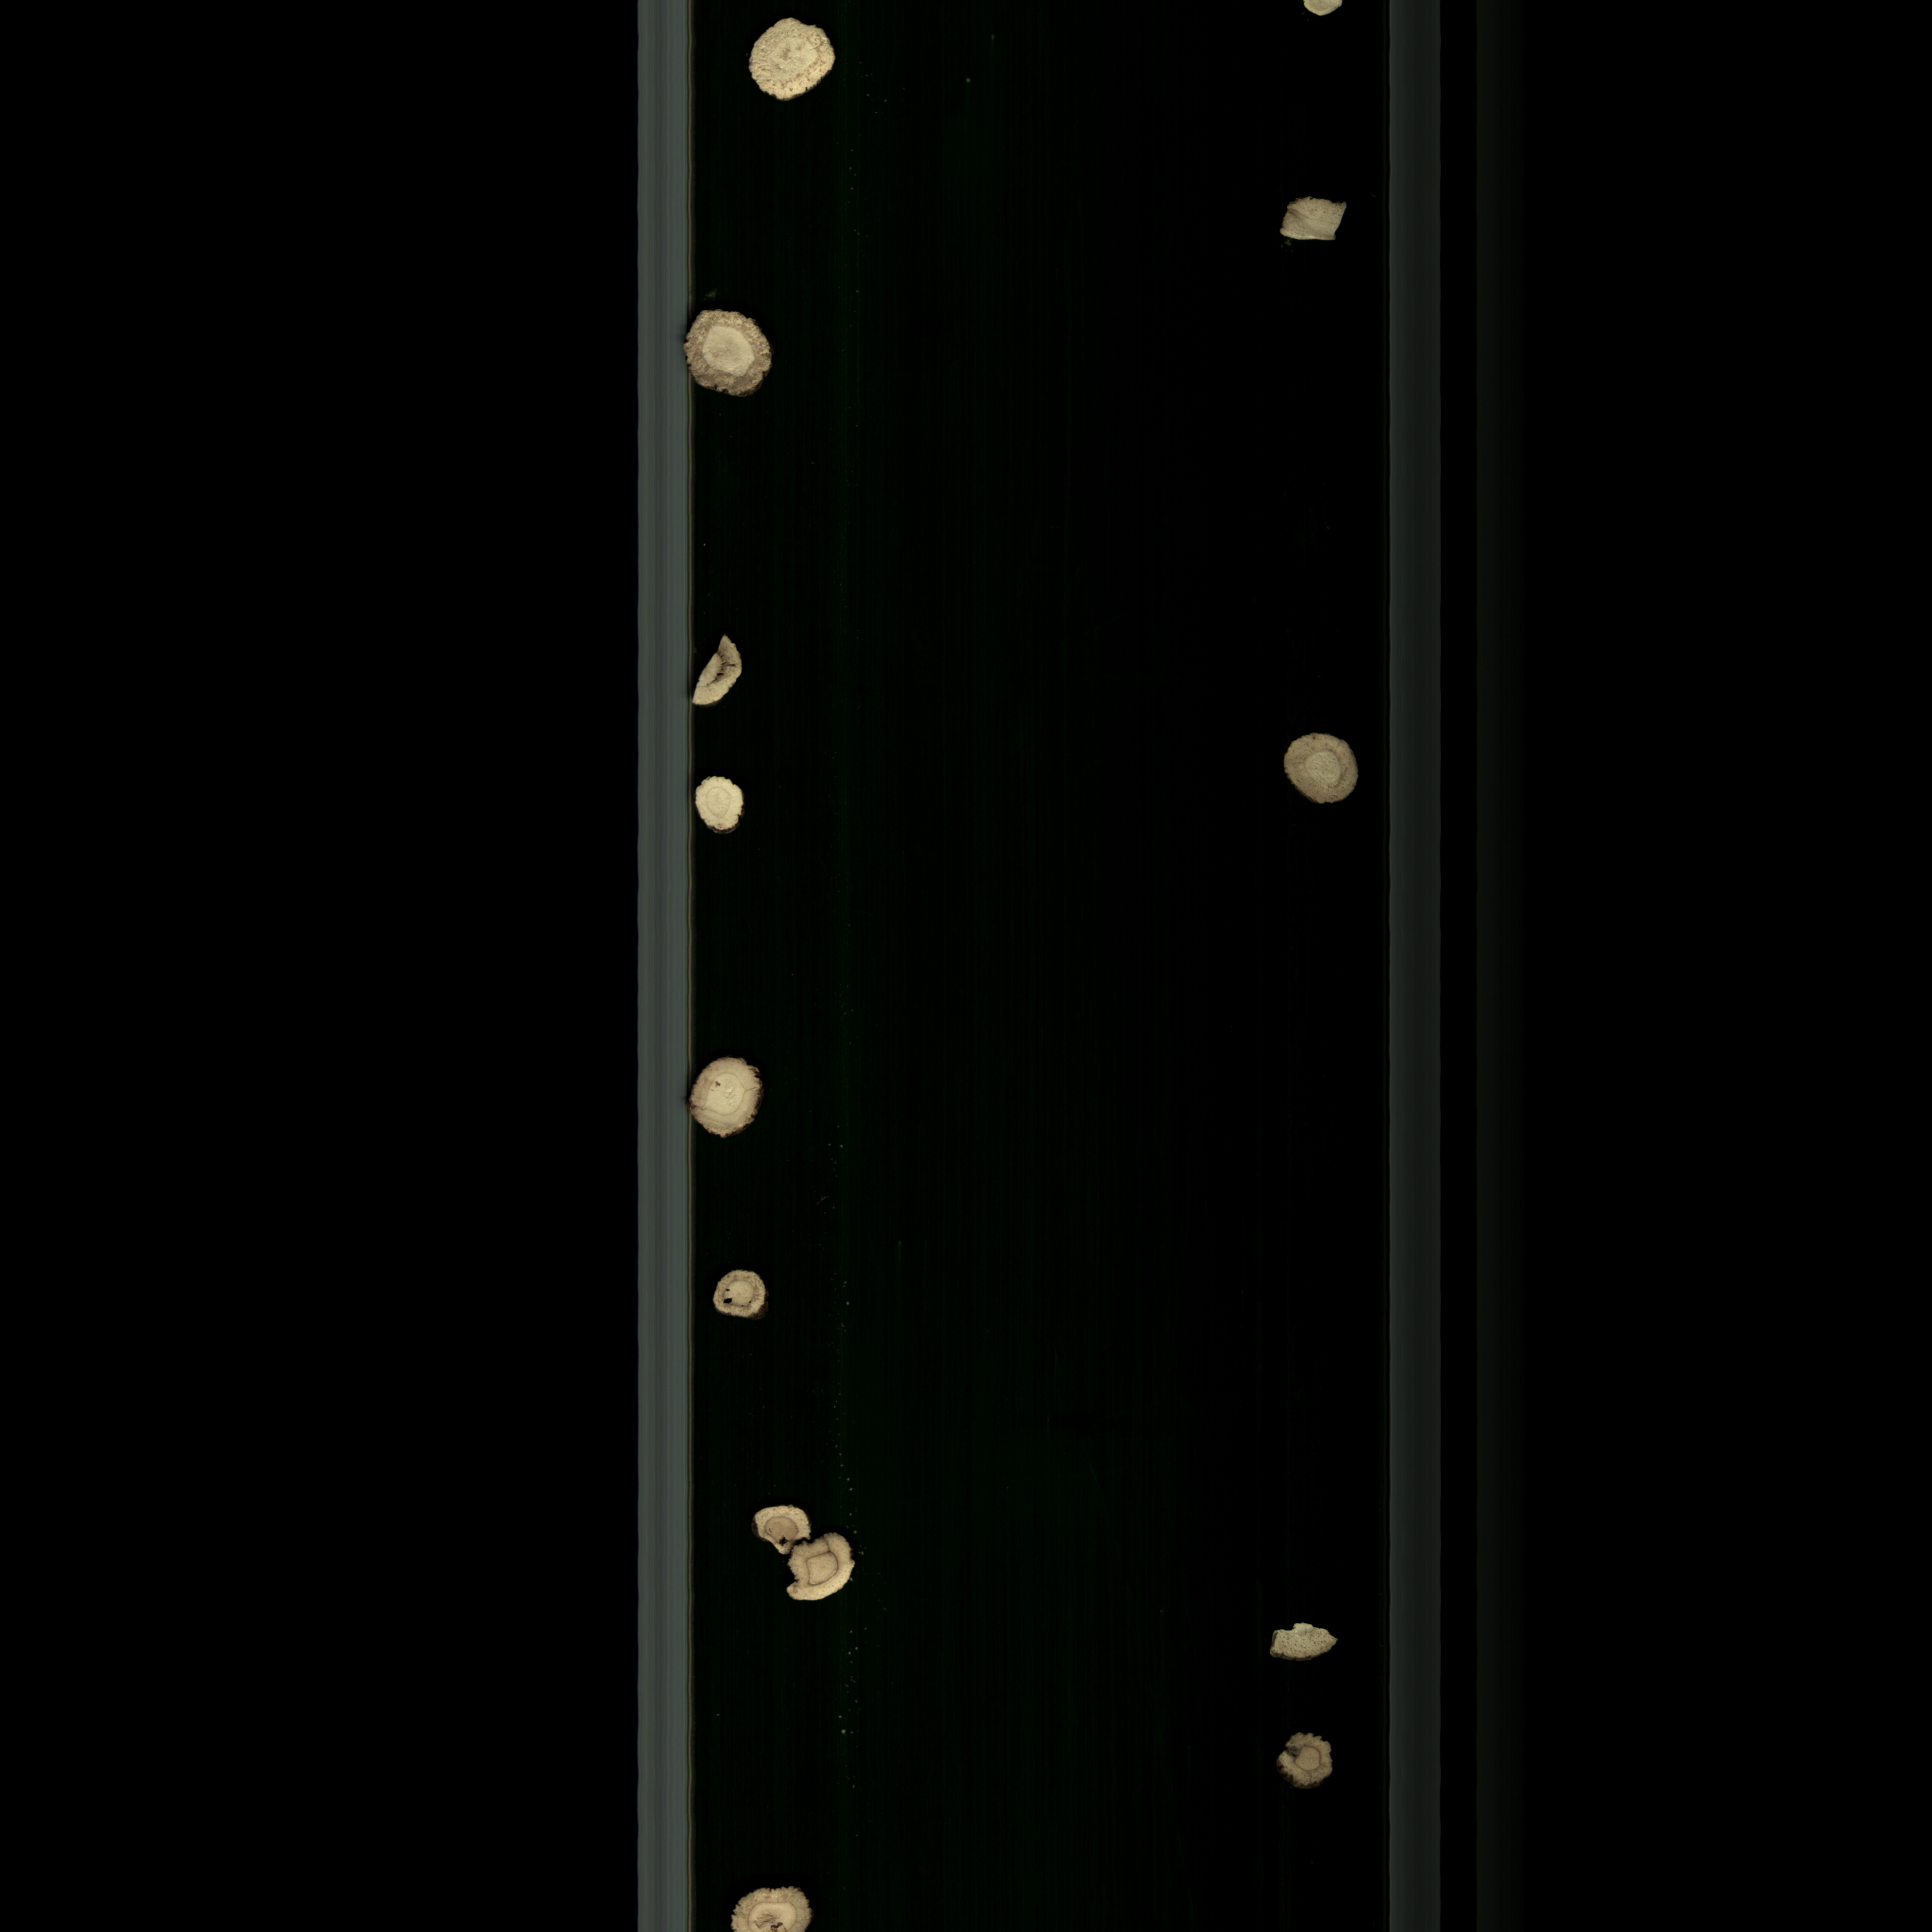debris: (1276, 193, 1359, 255)
dreg: (1267, 1614, 1345, 1670)
hole: (709, 1261, 786, 1329)
moldy: (734, 12, 846, 103), (679, 304, 784, 400), (1272, 724, 1369, 814), (780, 1532, 869, 1605), (722, 1877, 832, 1932), (1267, 1727, 1350, 1796), (741, 1500, 826, 1564), (692, 626, 750, 706)
